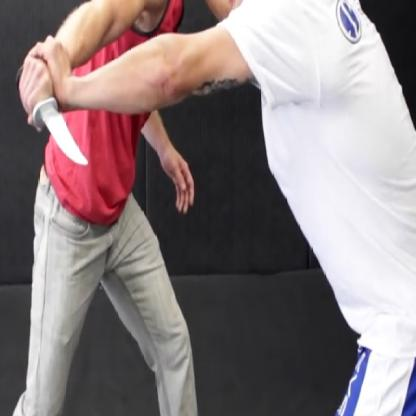knife: (13, 59, 92, 179)
